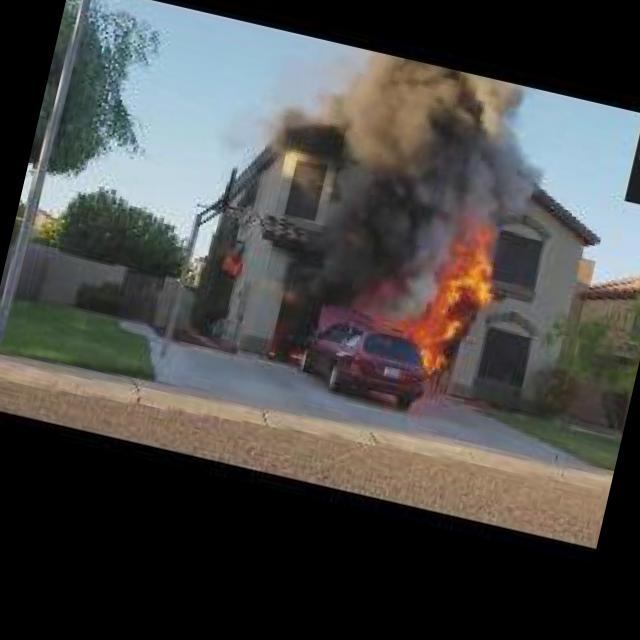fire: (368, 202, 512, 386), (222, 242, 246, 270), (290, 349, 302, 358)
smoke: (302, 48, 510, 332), (476, 82, 569, 233), (213, 66, 344, 172)
